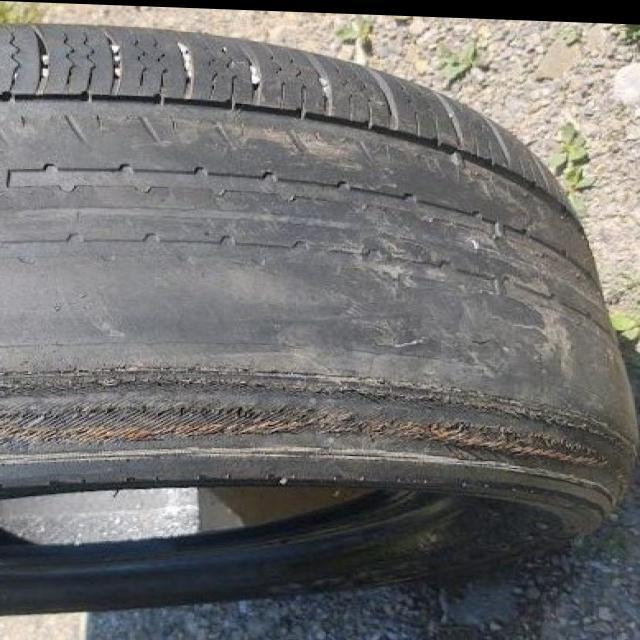Flat spots: (0, 180, 610, 370)
Non-defective: (8, 26, 282, 102)
